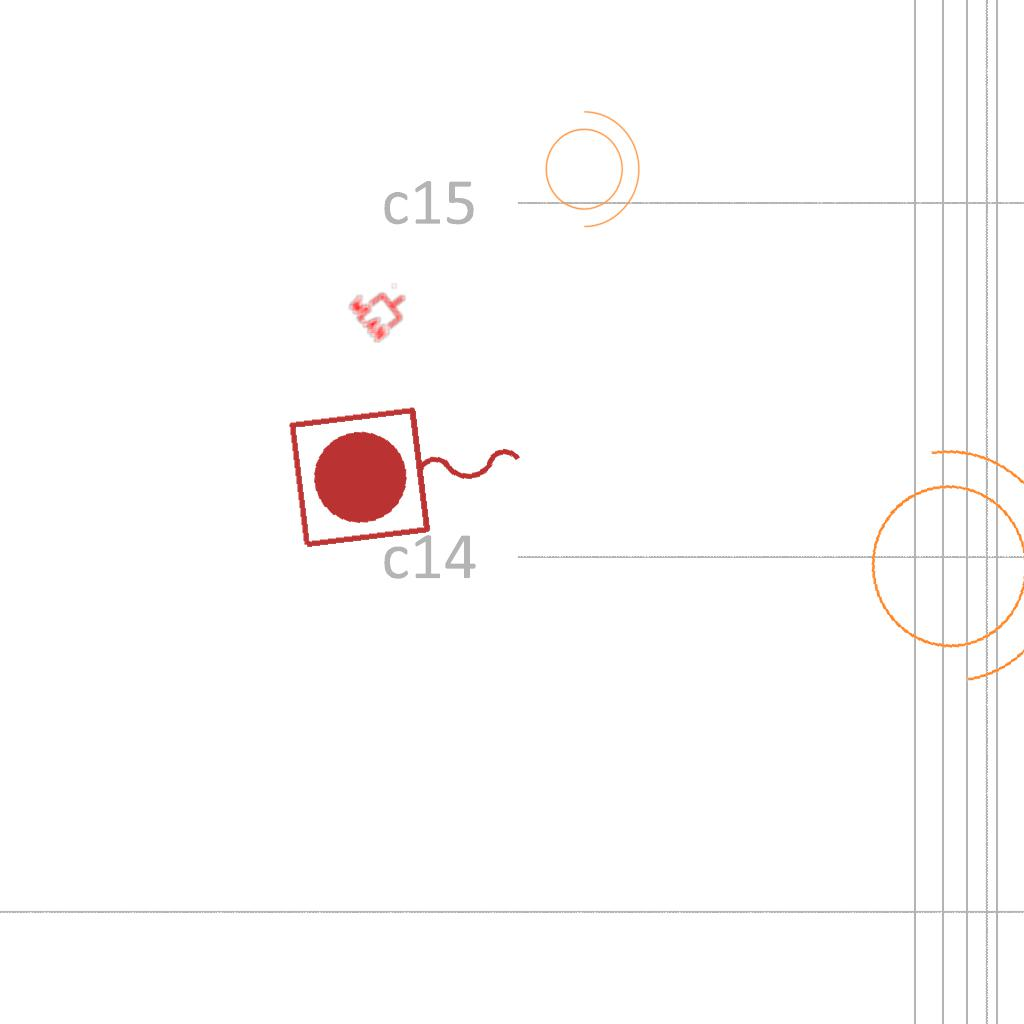Scheinwerfer_fuer_Alarmbeleuchtung: (826, 410, 1024, 707), (533, 100, 645, 232)
WLAN: (345, 271, 419, 345)
Zugtaster: (280, 386, 540, 560)
